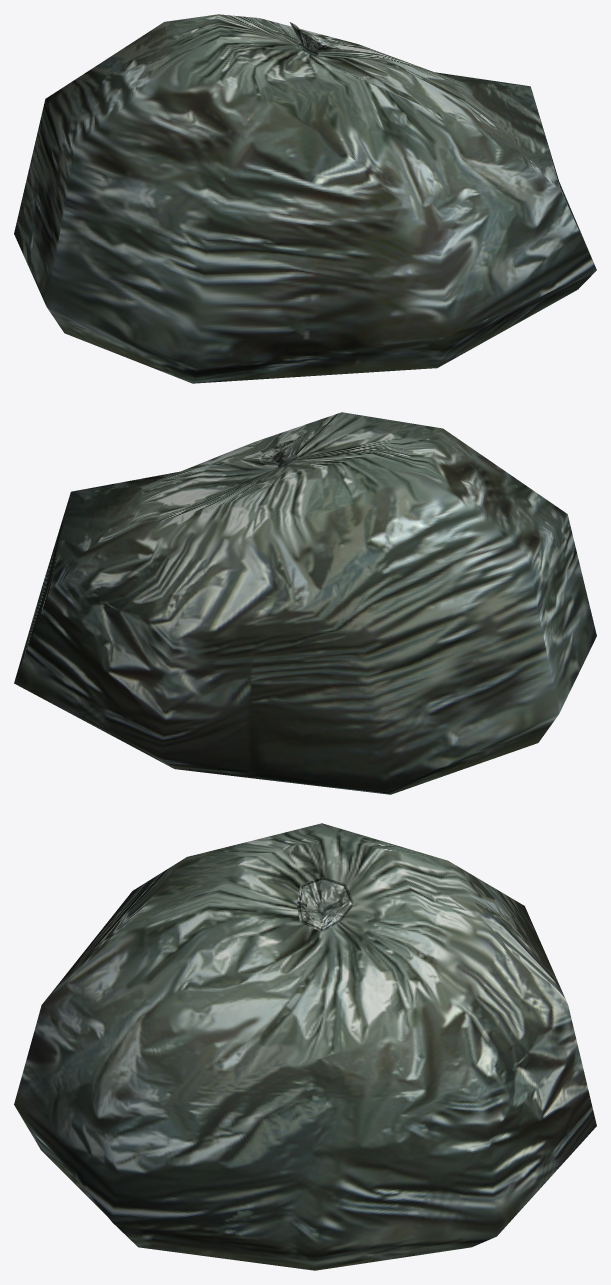
File: TrashBag3.fbx
3 views of the same model, one above another, from view 1: azimuth 30°, elevation 25°; view 2: azimuth 150°, elevation 25°; view 3: azimuth 270°, elevation 25° (orthographic). The views are drawn at different scales.
Visible parts, largest first — view 1: TrashBag3 (2); view 2: TrashBag3 (2); view 3: TrashBag3 (2).
Part boxes in pixels (left/top/right/bottom): TrashBag3 (2): left=14, top=14, right=596, bottom=383; TrashBag3 (2): left=14, top=412, right=596, bottom=794; TrashBag3 (2): left=14, top=823, right=596, bottom=1270.
Bounding box in the file's own units: 113 × 52.73 × 104.
